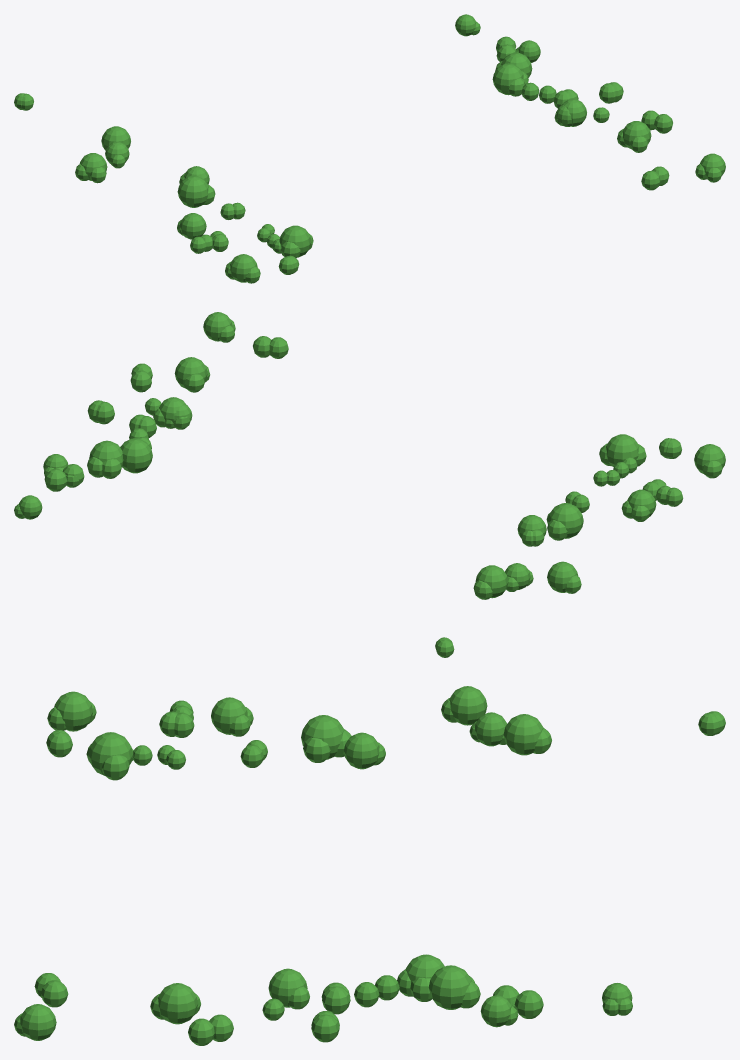
File: TreeCanopy_LeafLight.fbx
3 views of the same model, one above another, from view 1: azimuth 30°, elevation 25°; view 2: azimuth 150°, elevation 25°; view 3: azimuth 270°, elevation 25° (orthographic). The views are drawn at different scales.
Visible parts, largest first — view 1: Canopy0.001; view 2: Canopy0.001; view 3: Canopy0.001.
Boxes of the visible parts, bbox=[...] form: Canopy0.001: bbox=[14, 14, 725, 283]; Canopy0.001: bbox=[14, 312, 725, 657]; Canopy0.001: bbox=[14, 686, 725, 1045].
Size of the model in its own units: 26515 by 1494 by 23521.
